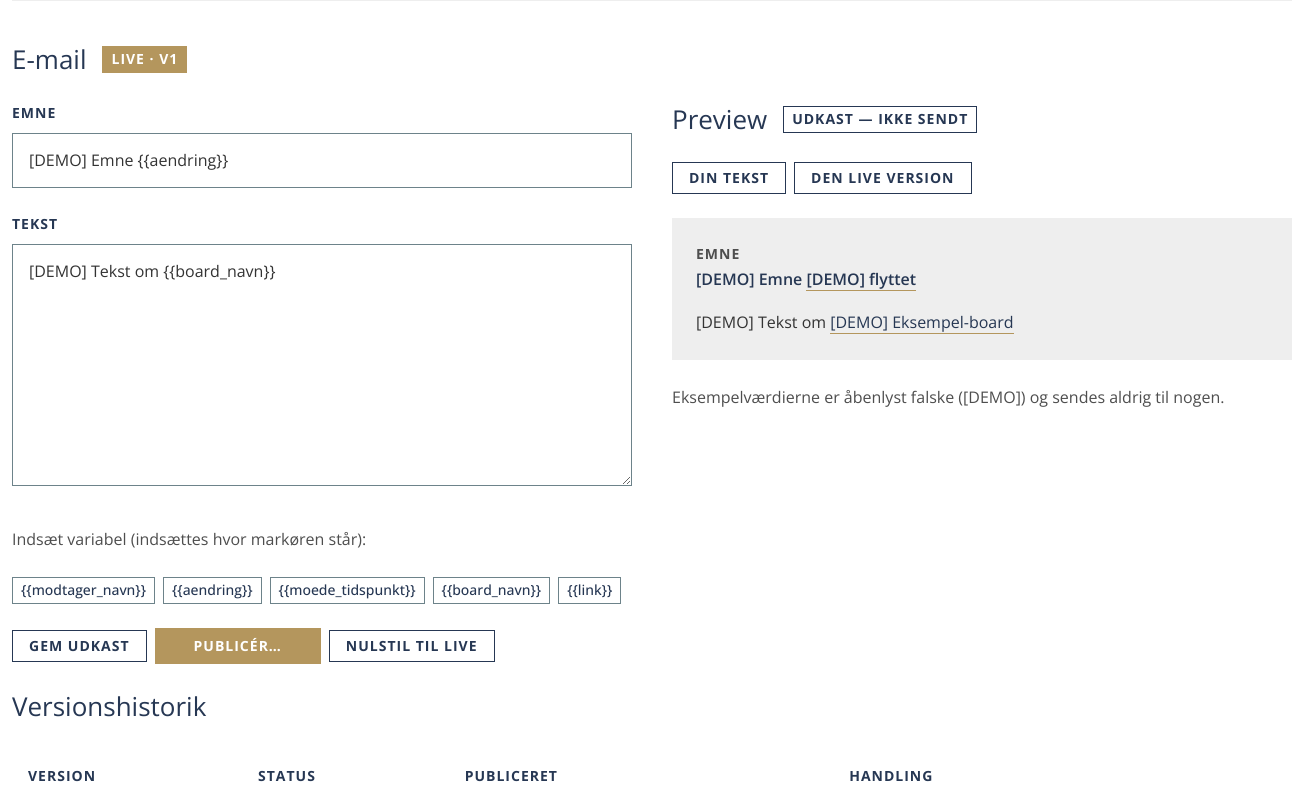
Test case: TemplateEditor — handlinger › viser fejlen fra actionen
Click the button "Gem udkast": (79,646) [12, 630, 146, 662]
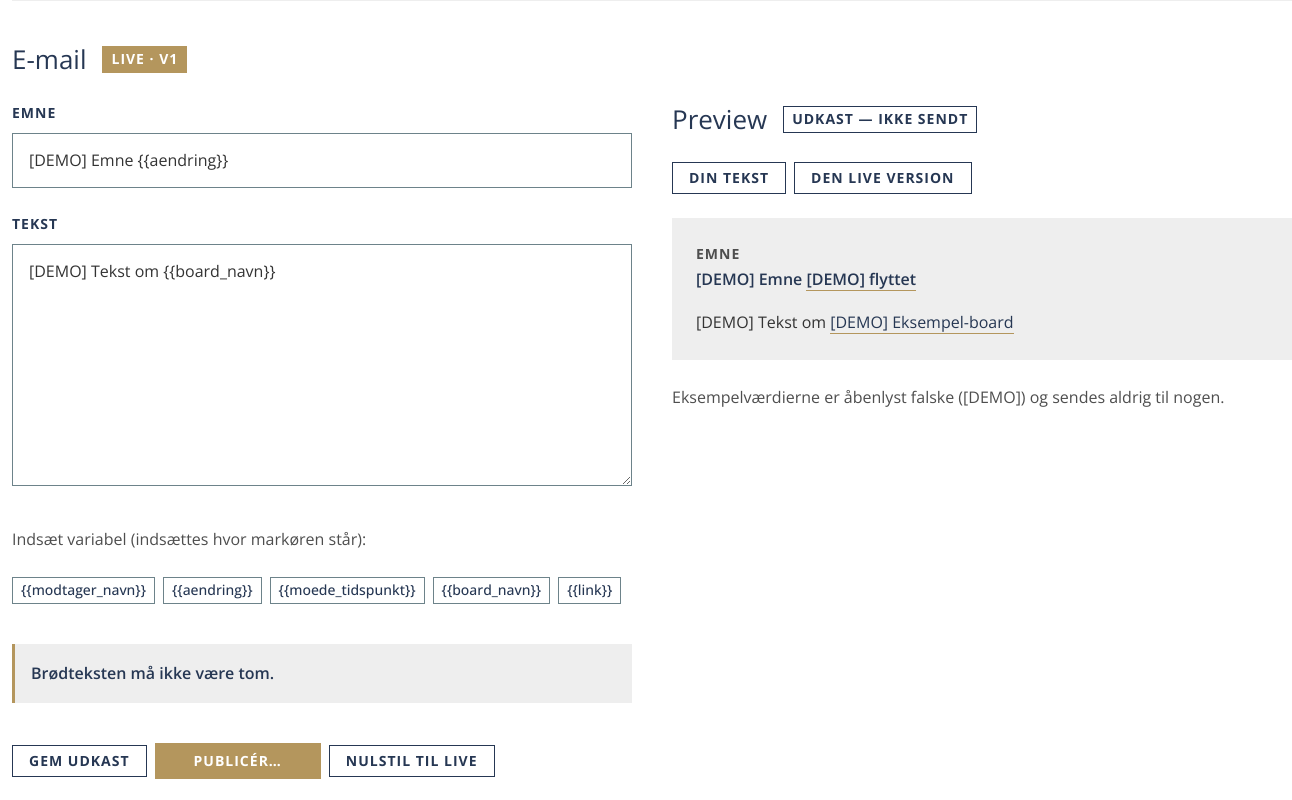
Now the message "Brødteksten må ikke være tom." is shown, box [12, 644, 632, 703]
